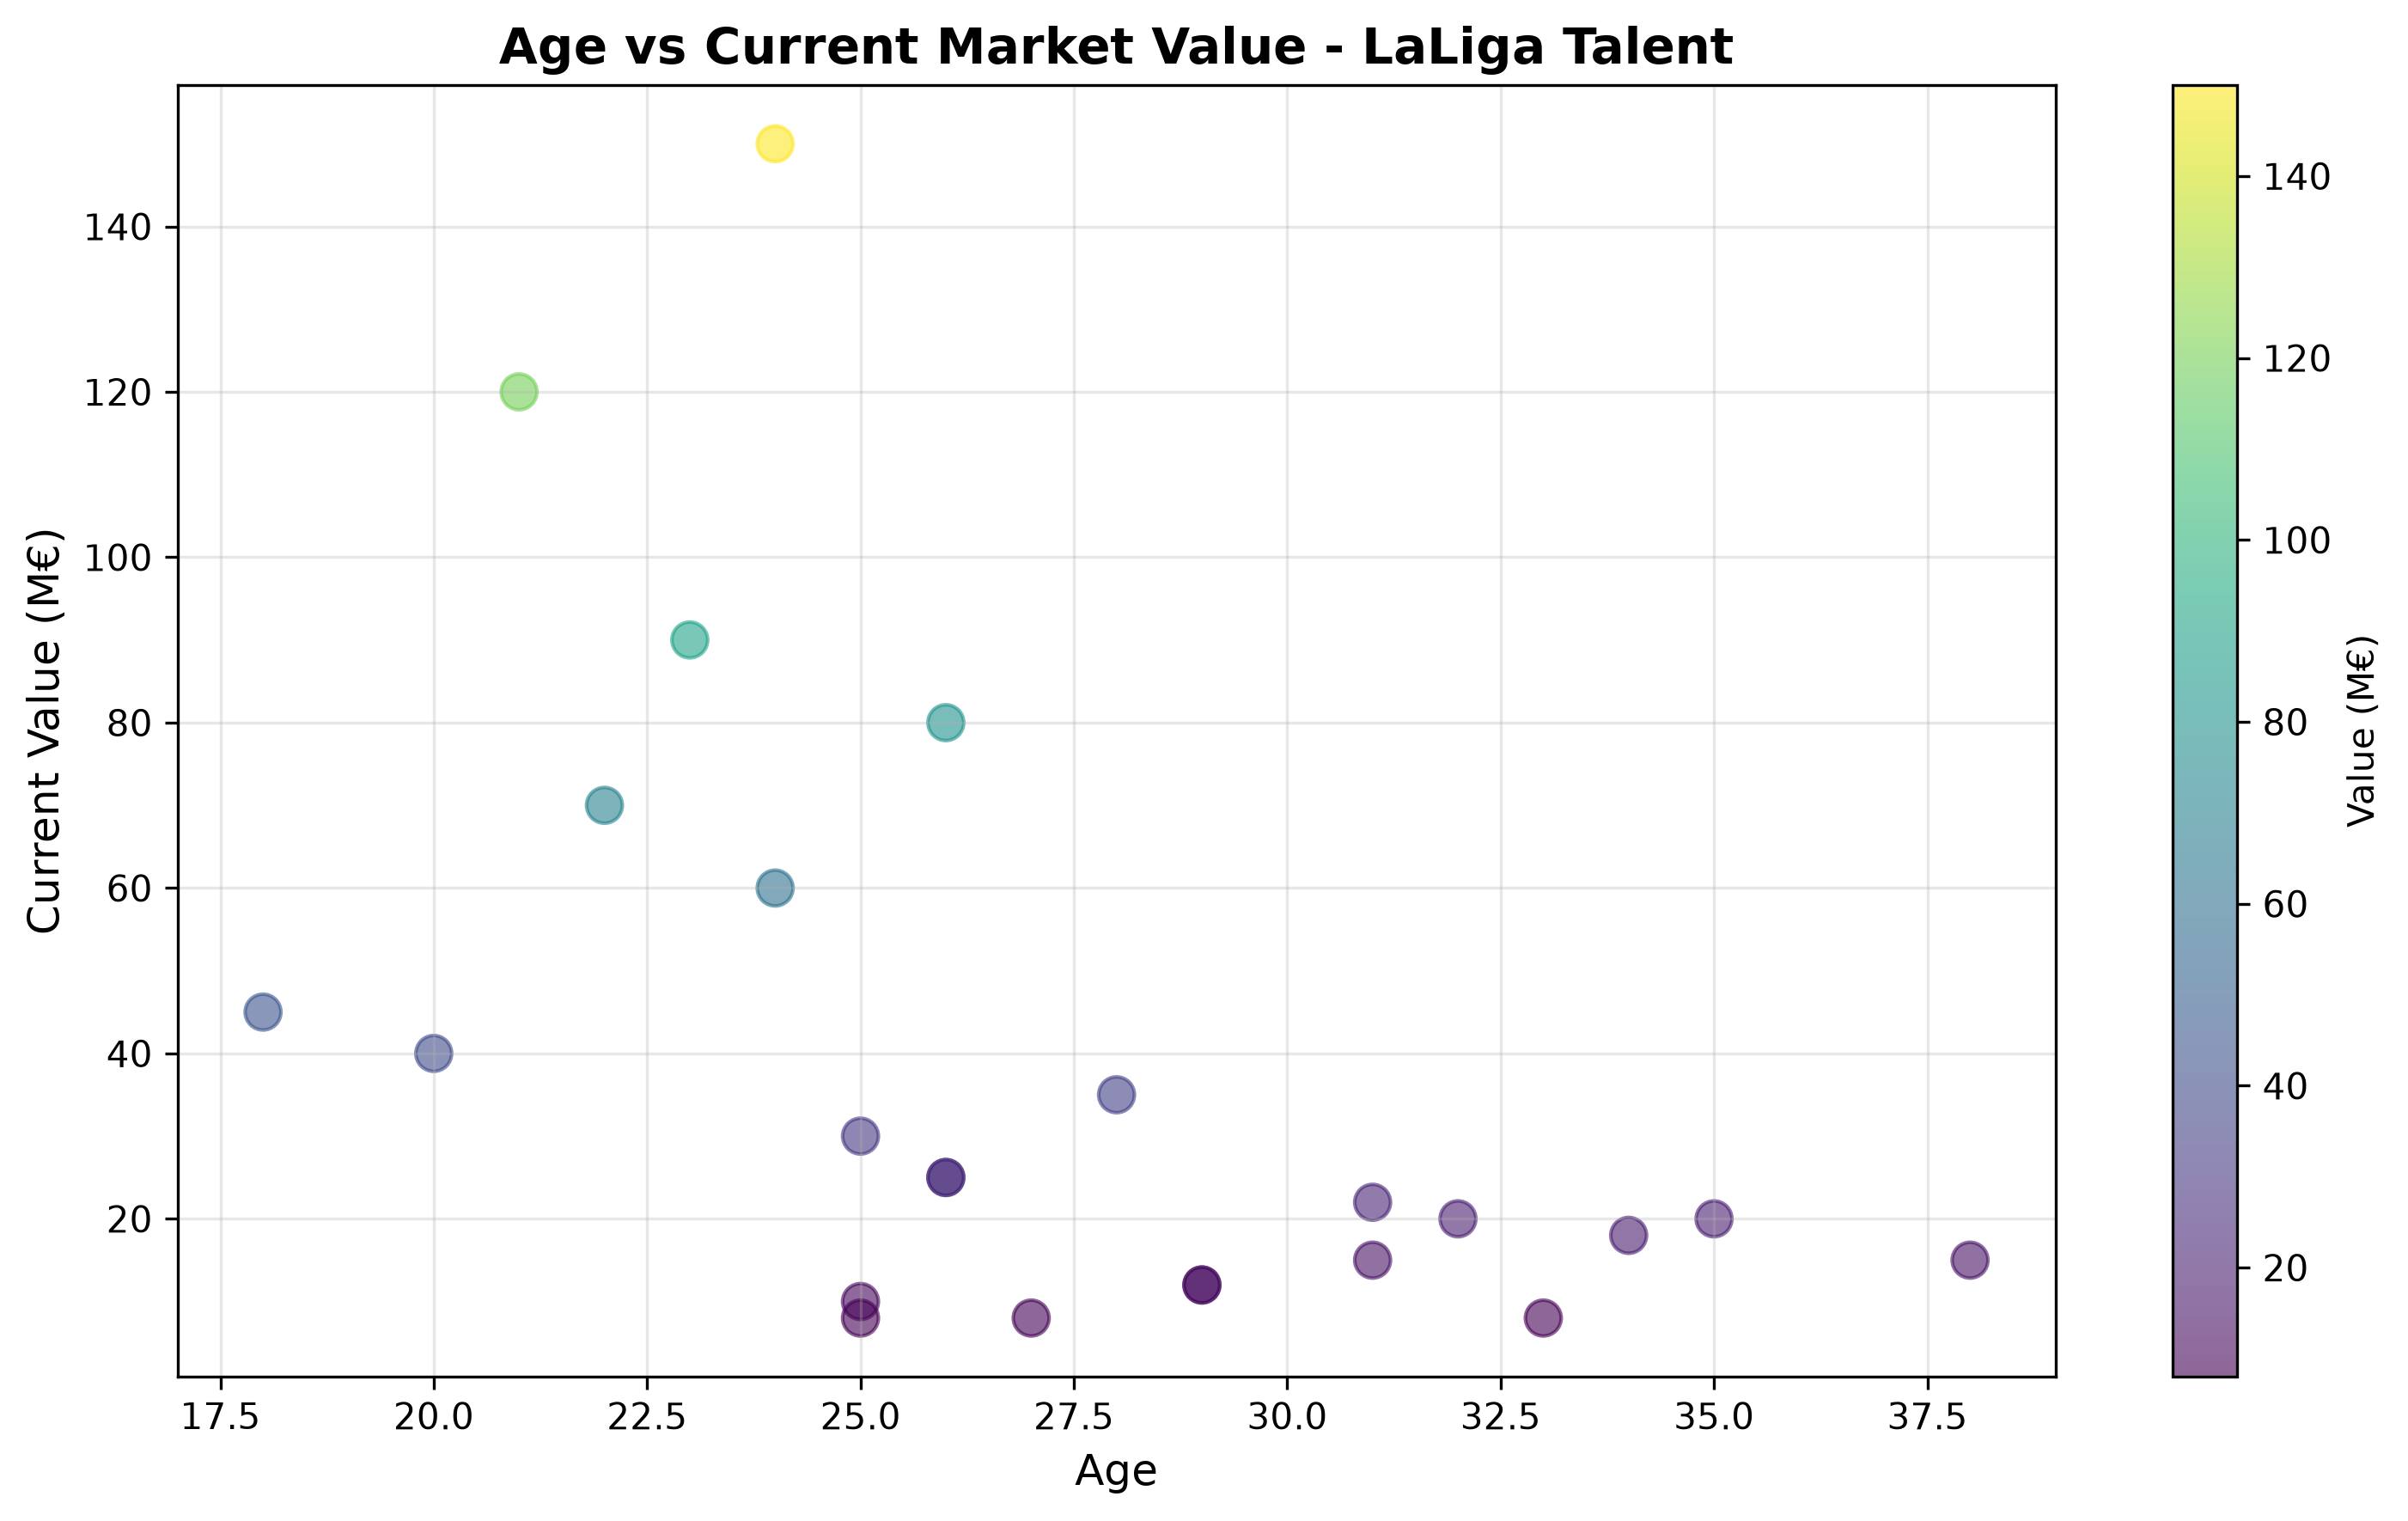

Layout of this report page (visuals, bound fields, positions):
{"tool":"powerbi","page":{"name":"Age vs Value","canvas":[1920,1080],"ordinal":1},"visuals":[{"type":"scatterChart","title":"Age vs Current Market Value (€M) by Player Segment","fields":{"Category":["players_laliga_real_150.Player"],"X":["Sum(players_laliga_real_150.Age)"],"Series":["players_laliga_real_150.Segment"],"Y":["Sum(players_laliga_real_150.Market_Value_M)"]},"box":[10.8,0,1877,1051.9],"z":0}]}

Visuals, with their boxes on the page's 1920x1080 design canvas (x1, y1, x2, y2). These are canvas units, not pixel positions in the 2408x1521 screenshot, which may show the page scaled, cropped or inside an application window:
"Age vs Current Market Value (€M) by Player Segment" scatterChart: 11/0/1888/1052
